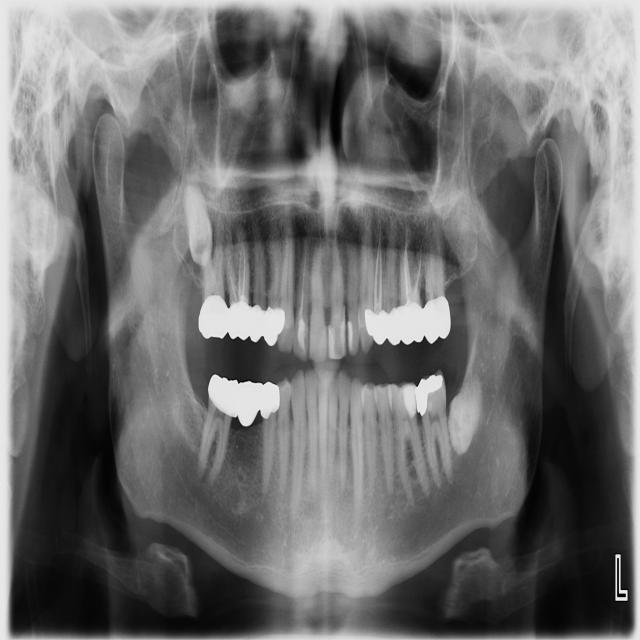mandibula: (93, 112, 562, 597)
